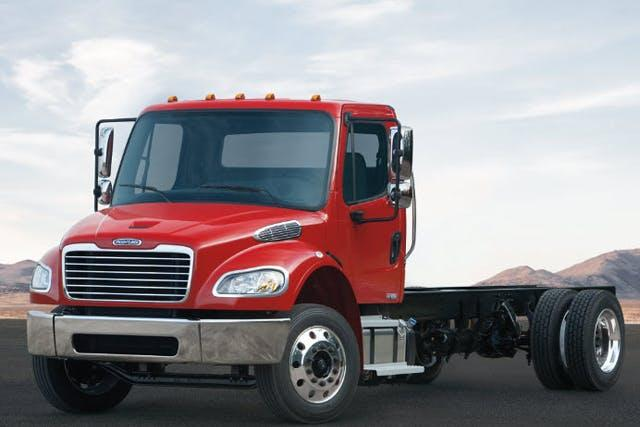truck: (26, 92, 623, 424)
